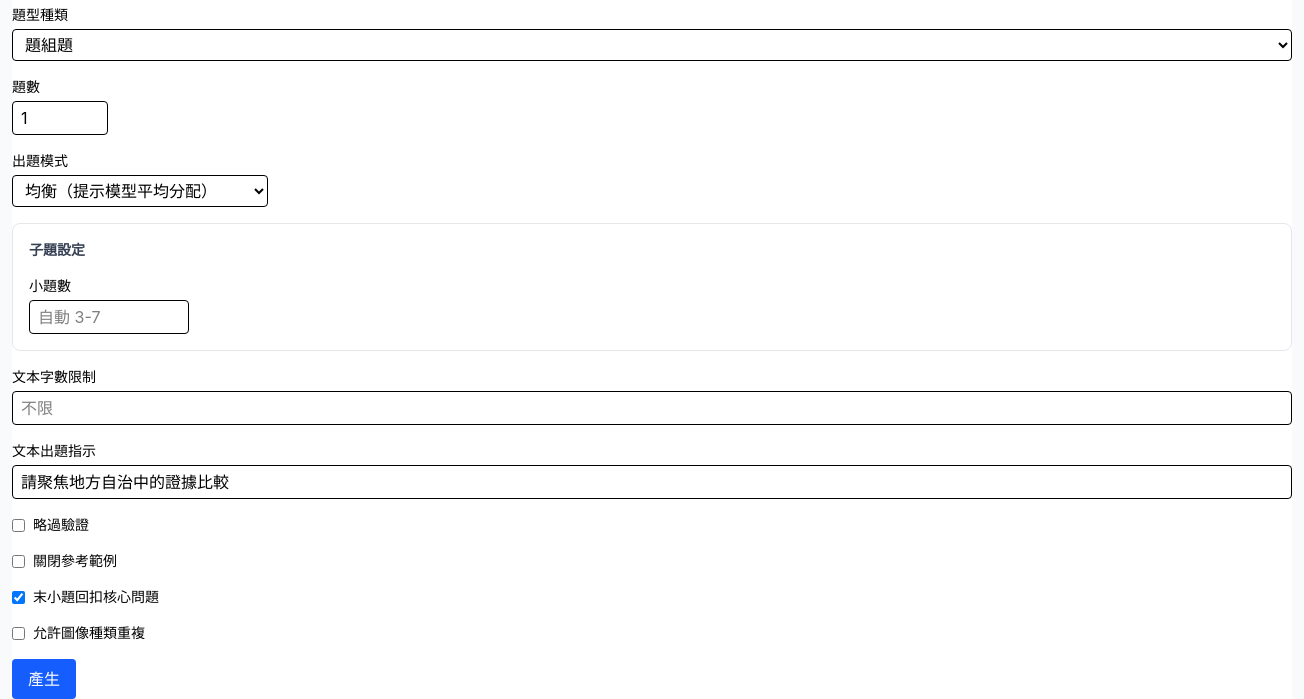
Test: ParamForm 發送前確認 display semantics › shows the submitted social text instruction in 發送前確認
(page scrolled)
Step 1. Click the button "產生" → [44, 679], box [12,659,76,698]
(page scrolled)
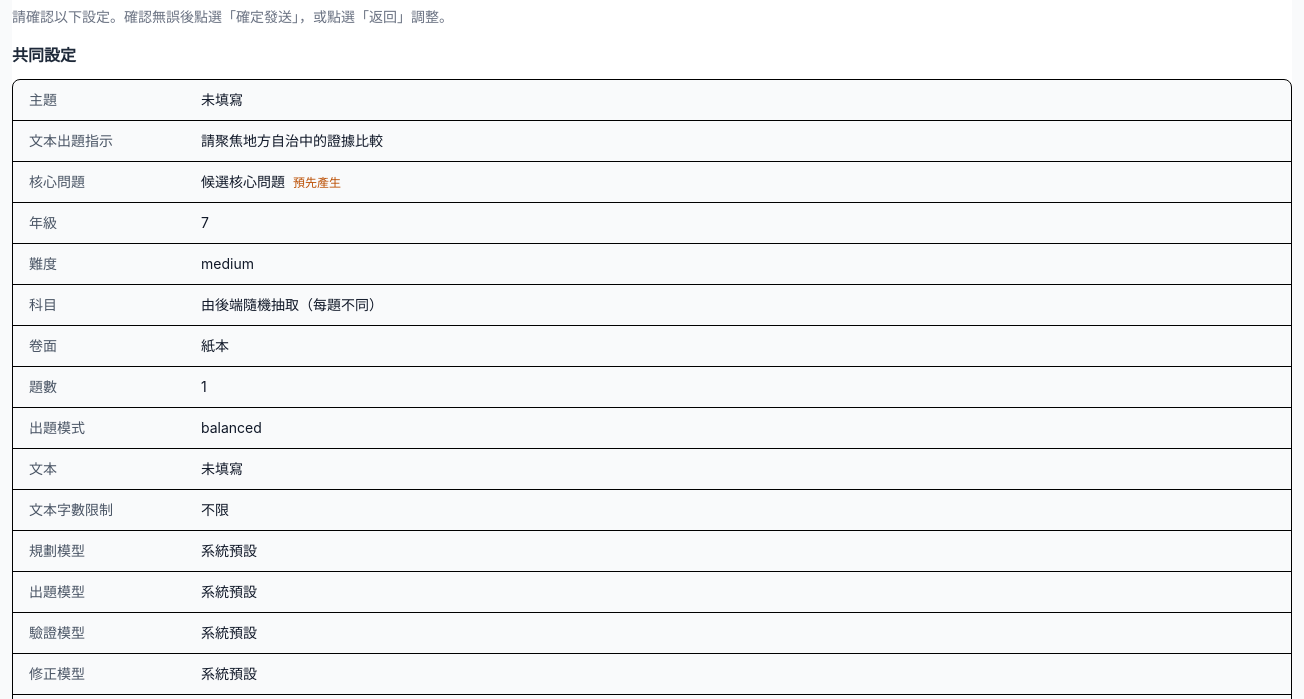
Now the text "請聚焦地方自治中的證據比較" is shown, box [201,132,383,149]
